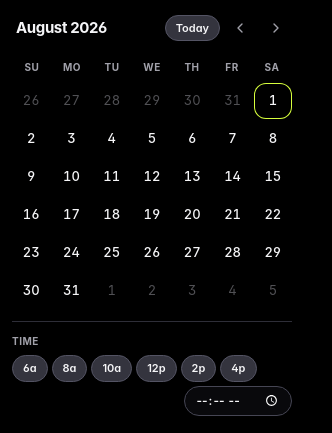
Scenario: DateTimeCalendar › next/previous month navigation changes the visible days without changing the value
Check: the text "August 2026" is shown, box x1=16 y1=18 x2=107 y2=37
Click the button named "next month" at (276,28), box x1=260 y1=12 x2=292 y2=44
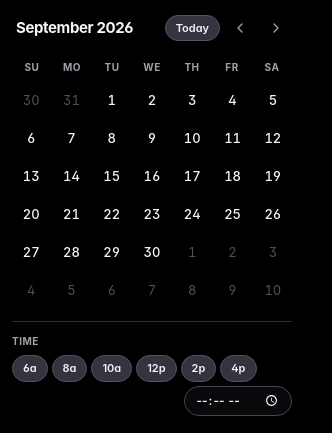
Check: the text "September 2026" is shown, box x1=16 y1=18 x2=133 y2=37
Click the button named "previous month" at (240,28), box x1=224 y1=12 x2=256 y2=44
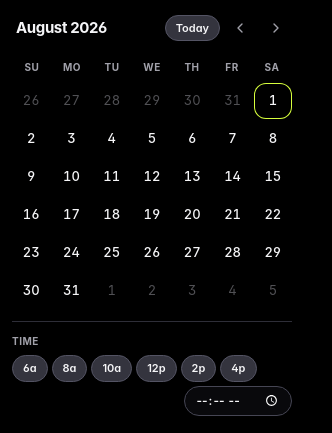
Click the button named "previous month" at (240,28), box x1=224 y1=12 x2=256 y2=44
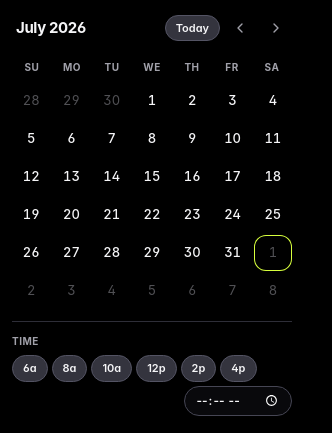
Check: the text "July 2026" is shown, box x1=16 y1=18 x2=86 y2=37
